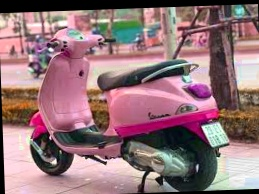Bien-so: (199, 122, 227, 149)
